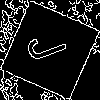J: (25, 25, 78, 65)
